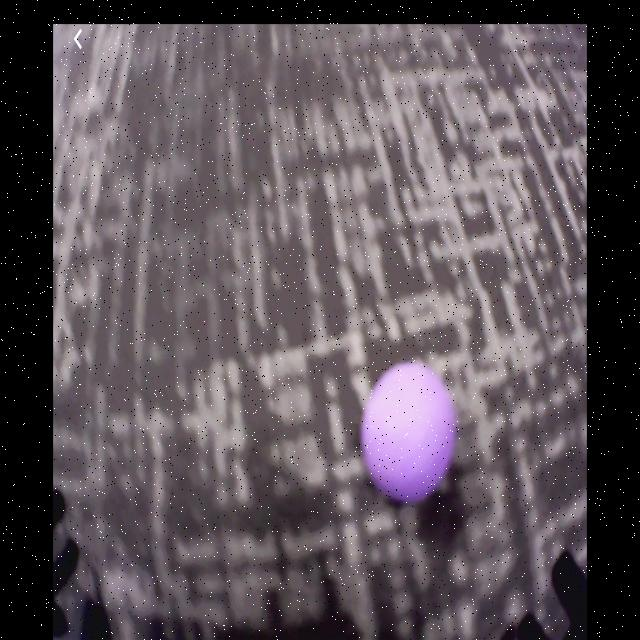ball: (363, 362, 457, 501)
